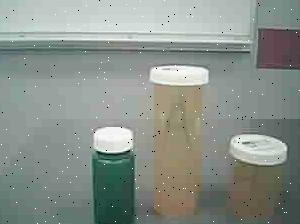Bottle A: (147, 60, 208, 222)
Bottle B: (221, 133, 292, 222)
Bottle C: (89, 121, 138, 224)
